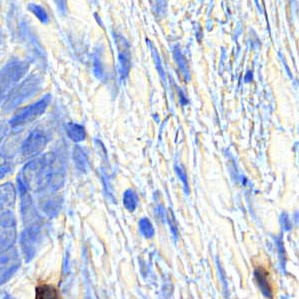Lymphocyte: (250, 250, 282, 298)
